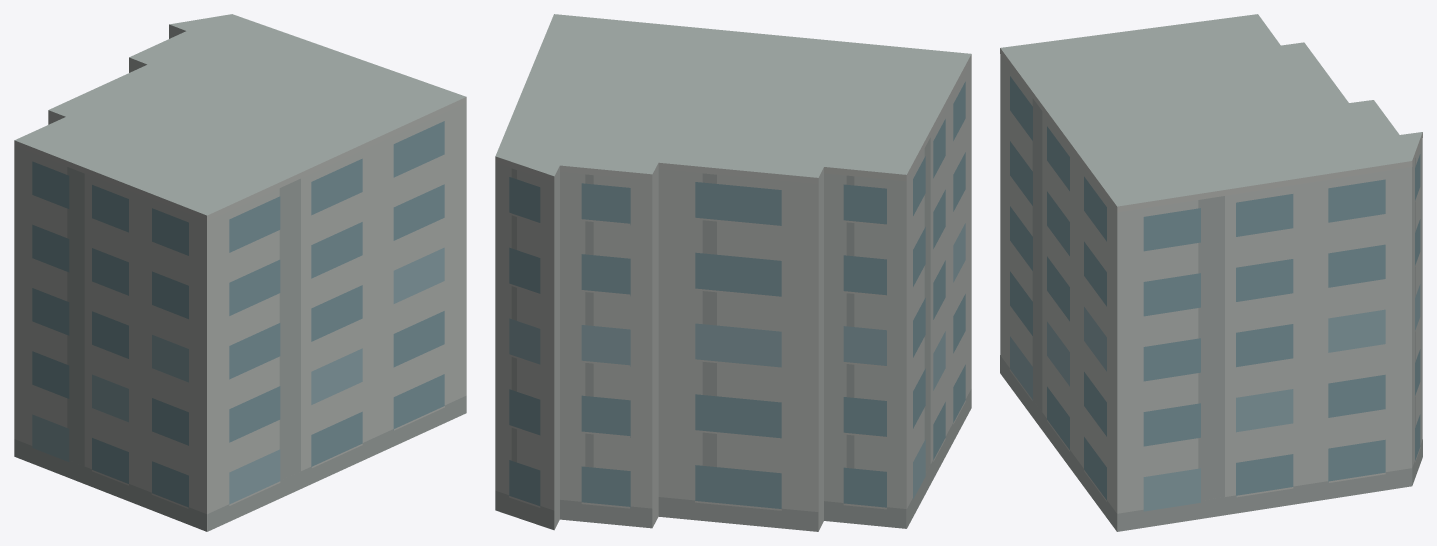
File: survey-upis-32816040.glb
3 views of the same model, side by side, from view 1: azimuth 30°, elevation 25°; view 2: azimuth 150°, elevation 25°; view 3: azimuth 270°, elevation 25° (orthographic). The views are drawn at different scales.
Parts seen in each view (by area): view 1: survey-upis-32816040.tmp; view 2: survey-upis-32816040.tmp; view 3: survey-upis-32816040.tmp.
Part boxes in pixels (x1,y1,x2,y2): survey-upis-32816040.tmp: (14, 14, 466, 531); survey-upis-32816040.tmp: (495, 14, 971, 531); survey-upis-32816040.tmp: (1000, 14, 1422, 531).
Size of the model in its own units: 16.83 by 13.25 by 15.61.
